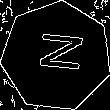N_W: (29, 34, 84, 79)
